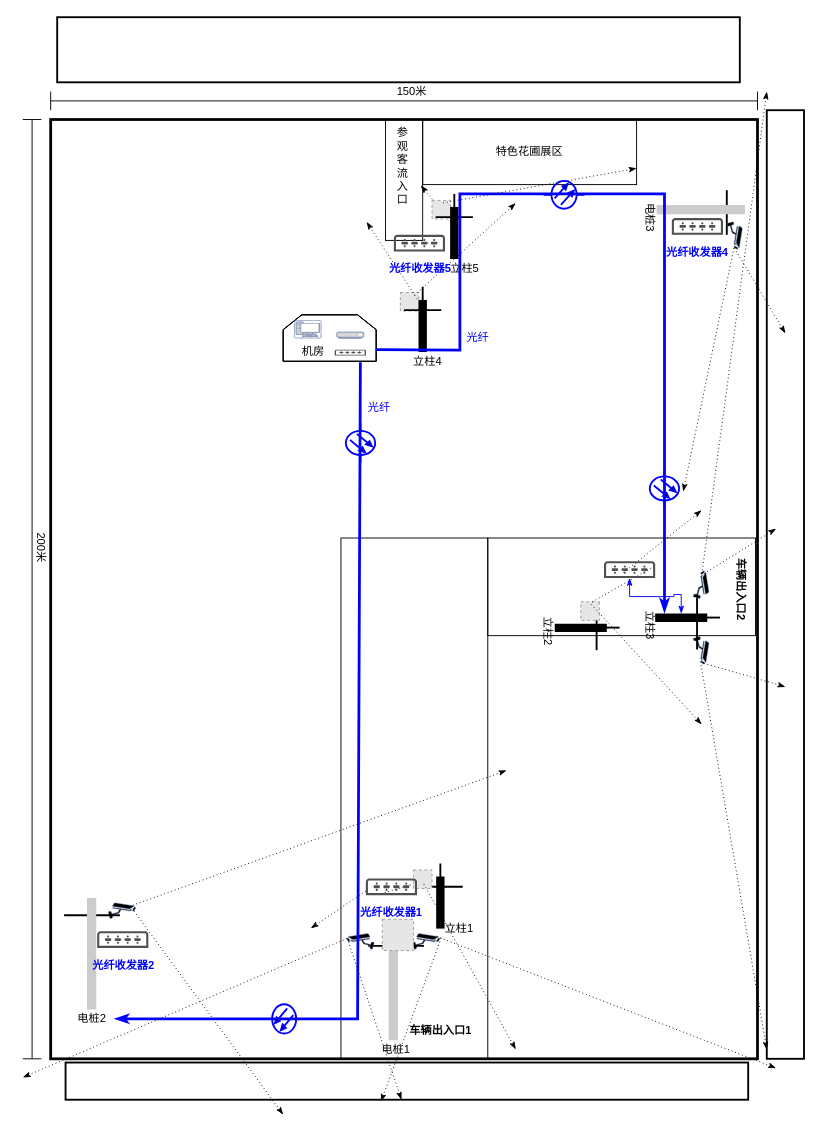
The diagram is 821 pixels wide and 1138 high, and some of its shapes have lost their labels. Grey dashed boxes stand in for pictures. Here are the shapes that lost their labels. From the top down, the centre of each, then its label:
At (398,49): "成青路".
At (629,569): "光纤收发器3".
At (784,584): "玉 兰 村 路".
At (406,1080): "柳安路".
